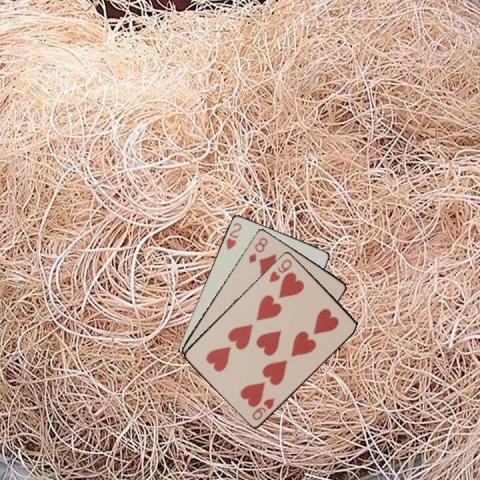2h: (223, 219, 243, 251)
8d: (246, 234, 269, 265)
9h: (266, 256, 293, 283), (249, 395, 276, 421)
